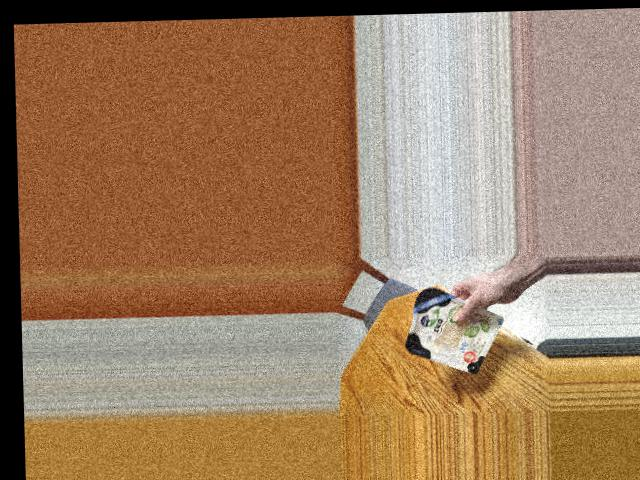cheese: (399, 289, 488, 372)
